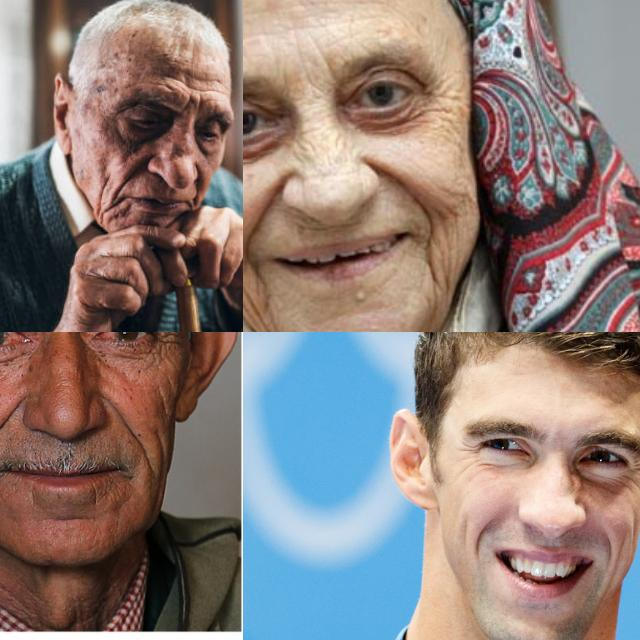bunny_line: (288, 137, 318, 167), (330, 131, 360, 157)
chin: (48, 506, 94, 530)
crows_feet: (422, 74, 452, 120), (151, 332, 177, 362), (456, 439, 482, 466), (628, 460, 640, 488)
forehead: (268, 20, 336, 34), (162, 70, 190, 90), (243, 47, 271, 67), (194, 74, 223, 86)
frown_line: (316, 52, 338, 88), (180, 93, 202, 113)
gummy_smile: (378, 158, 436, 210), (244, 182, 282, 242), (111, 407, 151, 457), (0, 399, 23, 451), (473, 516, 491, 558), (114, 164, 134, 200), (600, 527, 614, 569)
masseter: (442, 182, 476, 214), (94, 166, 108, 202), (456, 514, 469, 550), (626, 516, 636, 558)
sad_smile: (417, 236, 447, 302), (244, 258, 274, 308), (100, 197, 120, 217)
